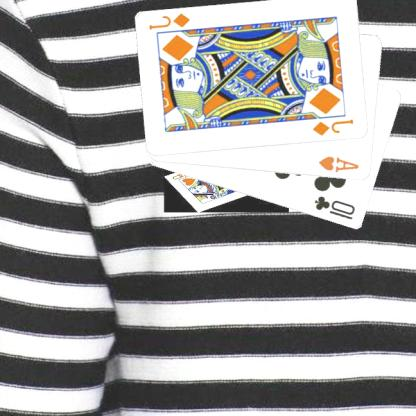10C: (313, 194, 359, 222)
AH: (318, 153, 362, 174)
JD: (311, 116, 357, 138), (148, 10, 194, 32)
